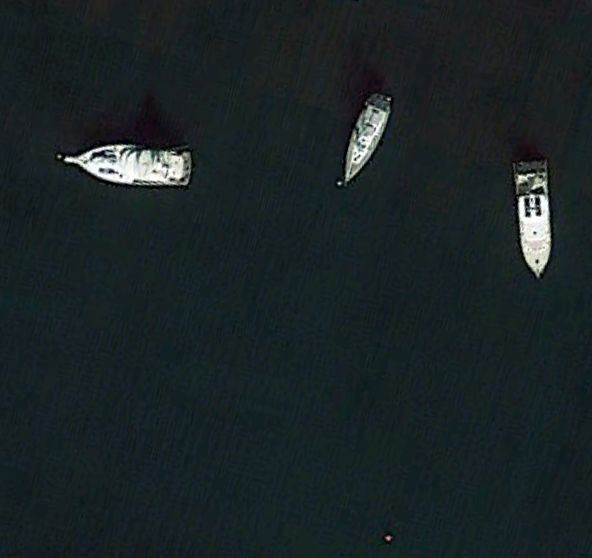boat: (62, 143, 195, 190), (512, 155, 555, 280), (341, 92, 394, 186)
